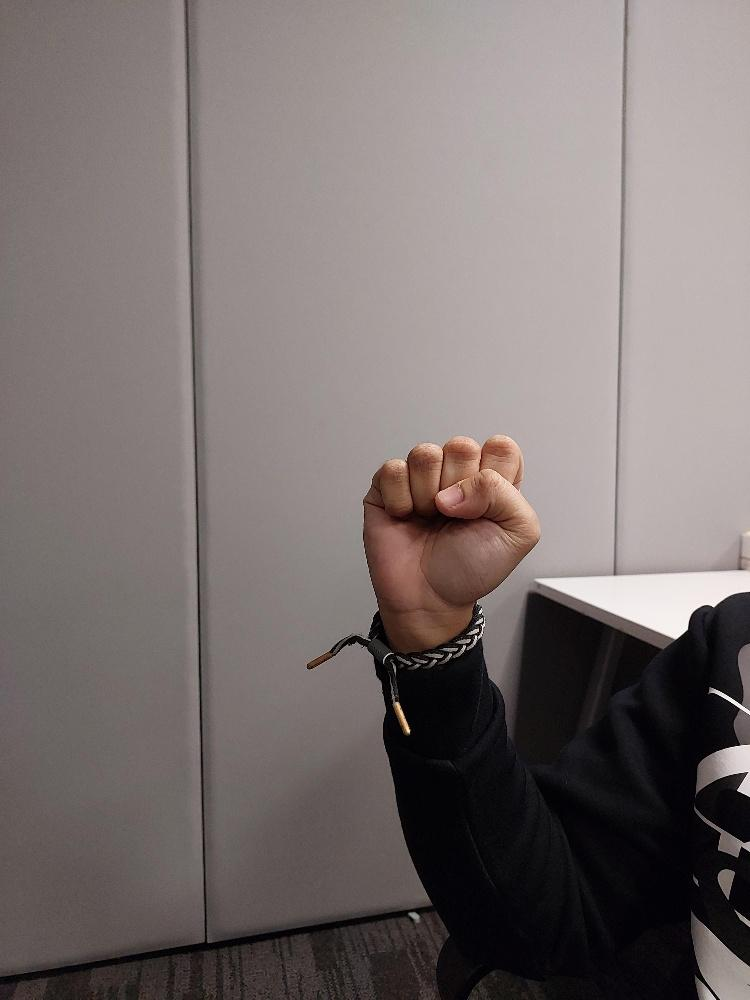s: (362, 433, 542, 613)
